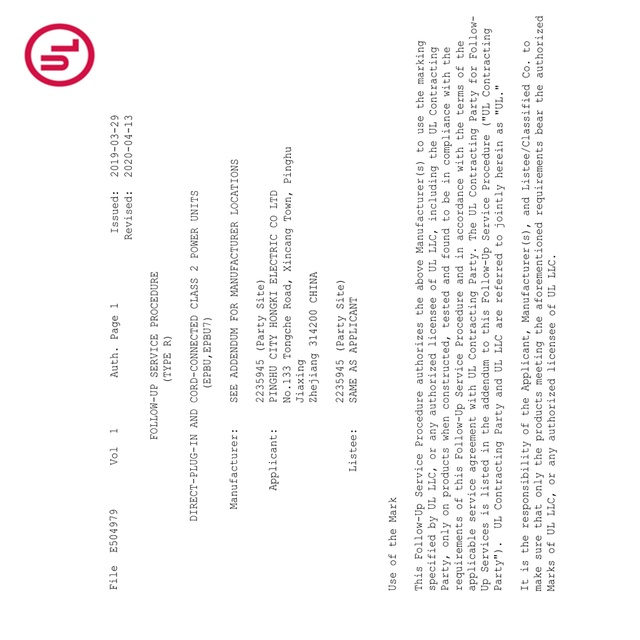ul: (25, 24, 95, 87)
